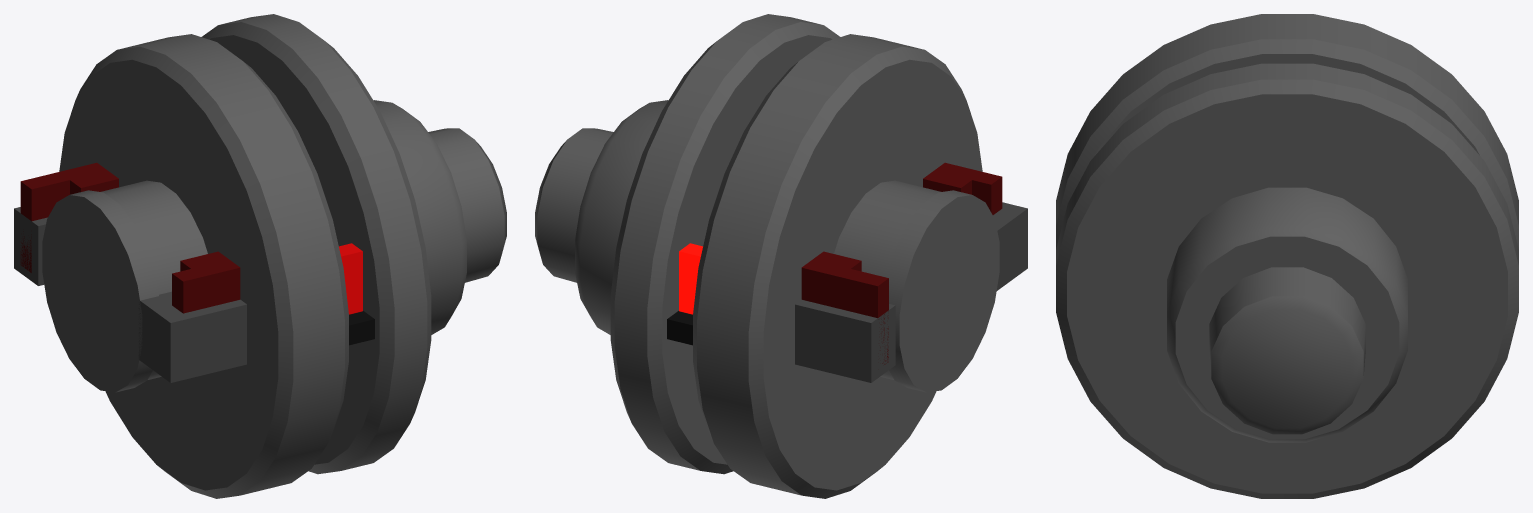
The model's file is newshl-34.glb.
The picture shows the model from 3 angles, left to right: view 1: azimuth 30°, elevation 25°; view 2: azimuth 150°, elevation 25°; view 3: azimuth 270°, elevation 25°; orthographic projection.
Parts seen in each view (by area): view 1: newshl-34; view 2: newshl-34; view 3: newshl-34.
Part boxes in pixels (bbox=[...]): newshl-34: bbox=[14, 14, 506, 498]; newshl-34: bbox=[535, 14, 1027, 498]; newshl-34: bbox=[1056, 14, 1518, 498].
Size of the model in its own units: 1.67 by 1.74 by 1.74.
